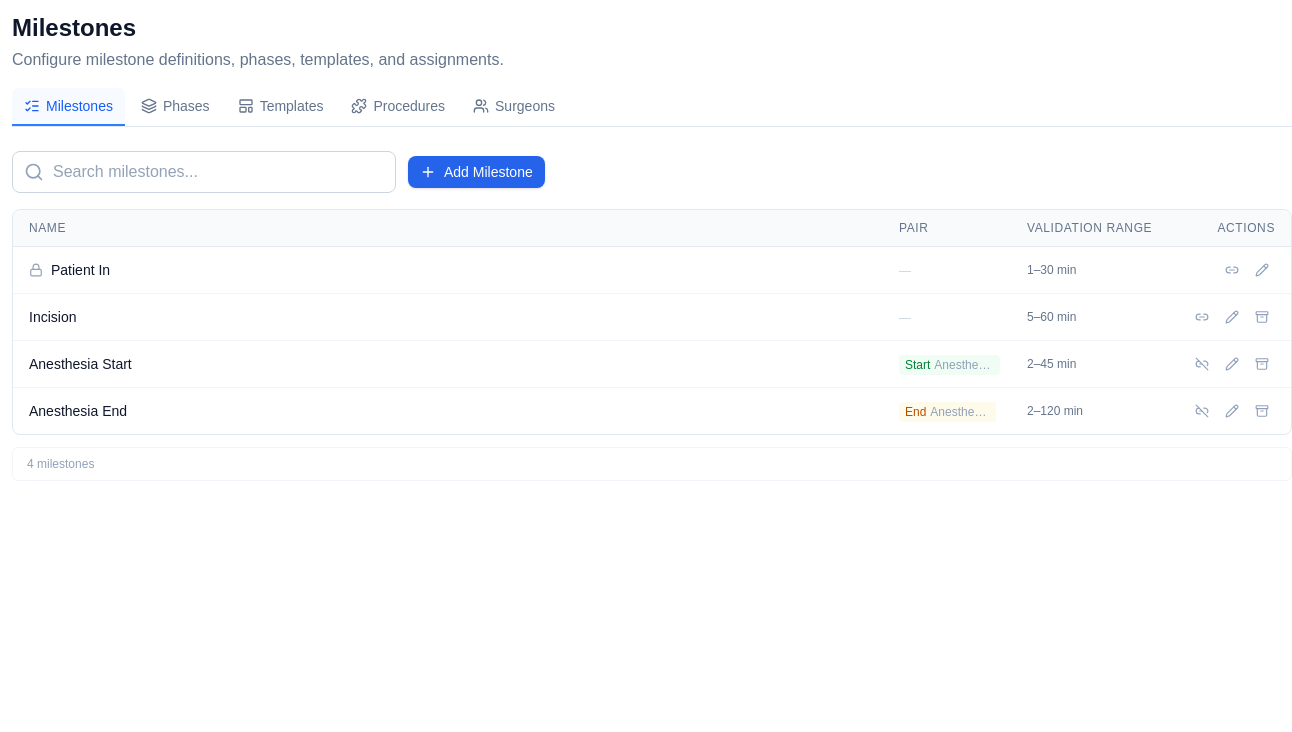
it: MilestonesSettingsPage › Milestones tab - pair linking › shows pair linking banner when link button clicked
This screenshot has width=1292, height=732.
Click link button on "Incision" (second unpaired milestone)
Click the button titled "Link with another milestone" next to "5–60 min". click: (1202, 317)
box: [1189, 304, 1215, 330]
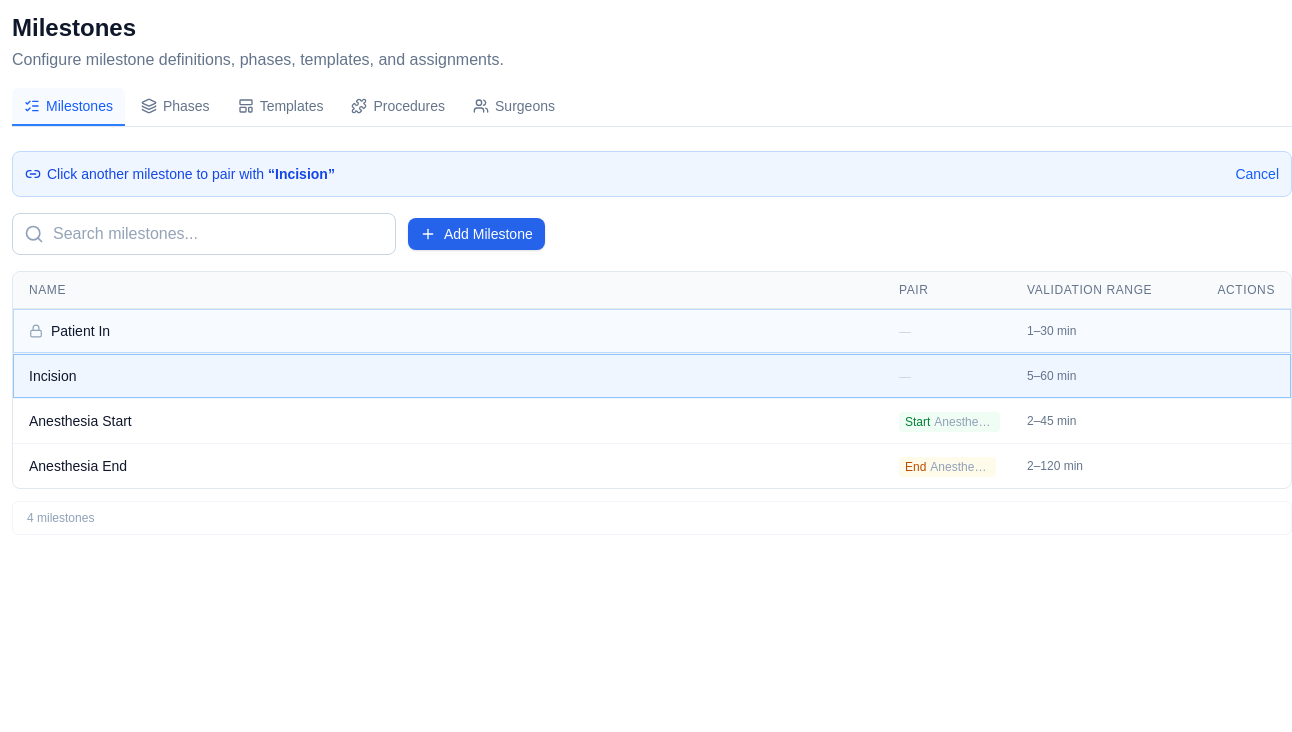
Now the text "Click another milestone to pair with “Incision”" is shown, box [25, 164, 335, 184]
